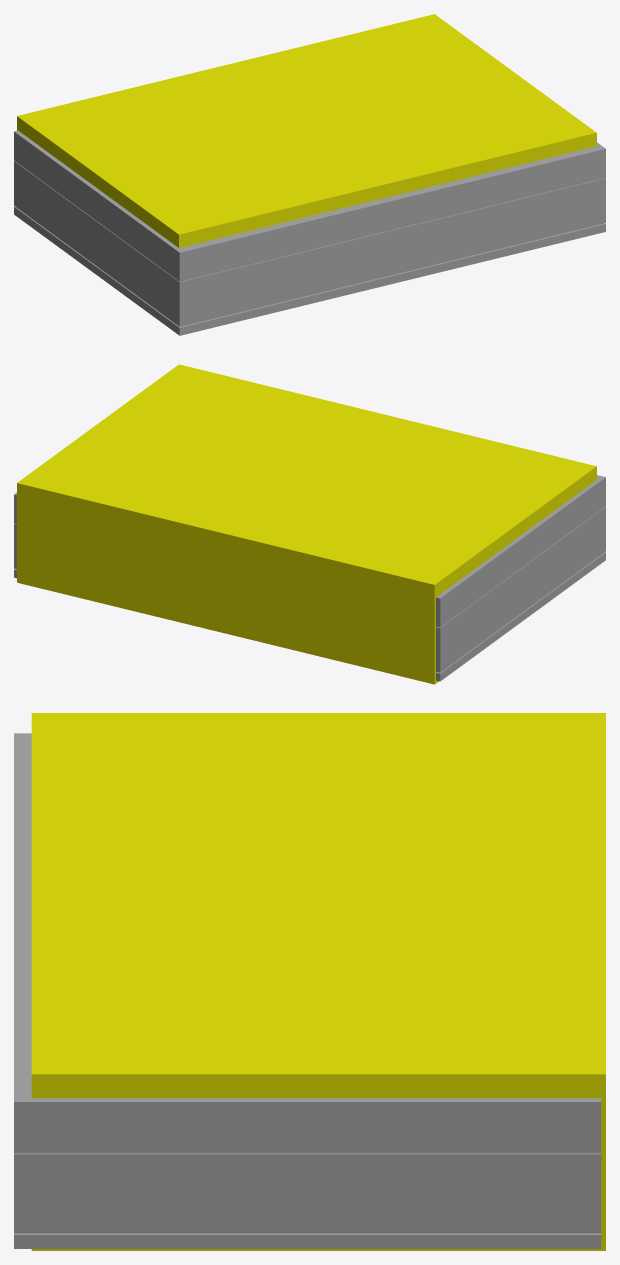
File: yellowbook.fbx
3 renders of one model, top to bottom at view 1: azimuth 30°, elevation 25°; view 2: azimuth 150°, elevation 25°; view 3: azimuth 270°, elevation 25°, orthographic. The views are drawn at different scales.
Parts seen in each view (by area): view 1: polySurface22; view 2: polySurface22; view 3: polySurface22.
Boxes of the visible parts, x1=… form: polySurface22: x1=14, y1=14, x2=605, y2=335; polySurface22: x1=14, y1=364, x2=605, y2=684; polySurface22: x1=14, y1=713, x2=605, y2=1250.
Bounding box in the file's own units: 0.9227 × 0.2061 × 0.6265.
